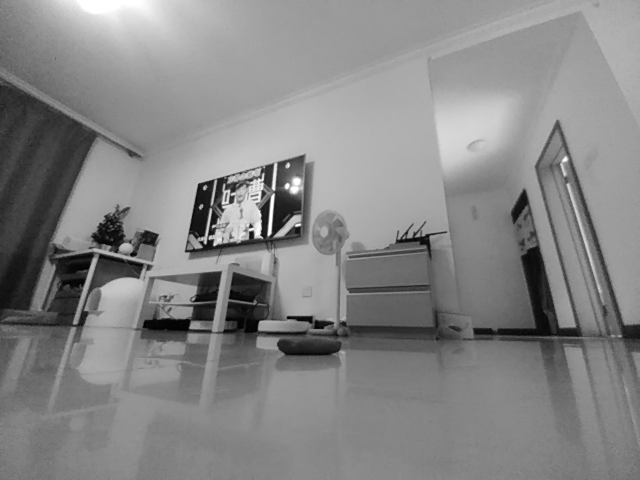pet feces: (276, 336, 343, 358)
